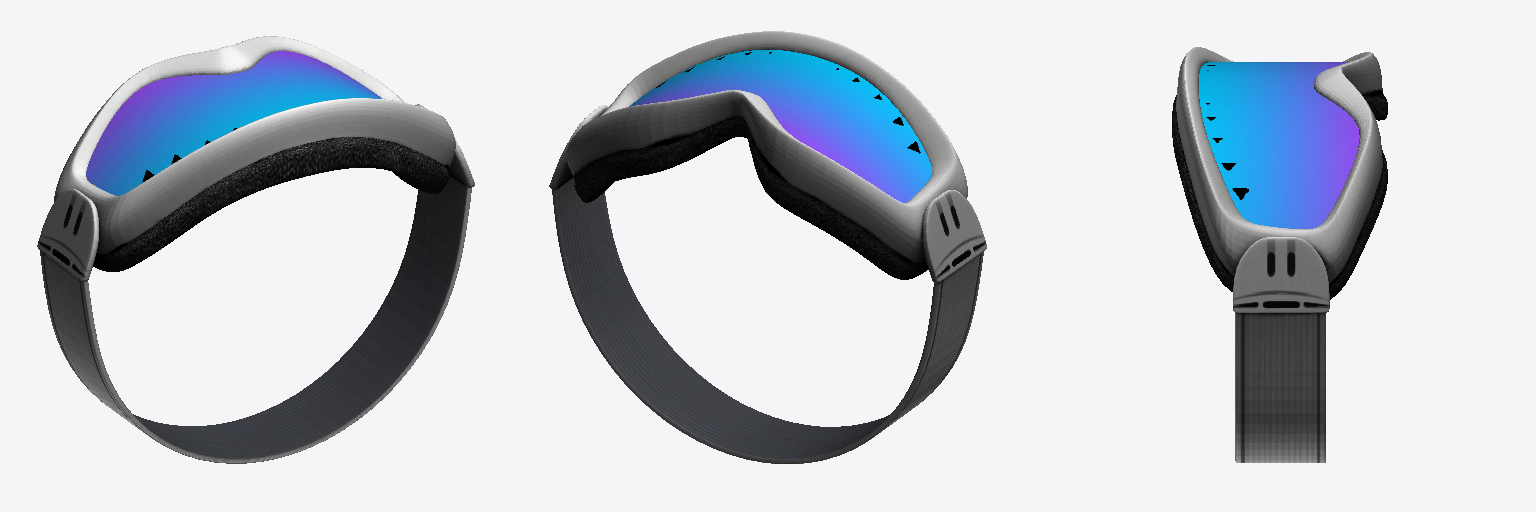
3 renders of one model, left to right at view 1: azimuth 30°, elevation 25°; view 2: azimuth 150°, elevation 25°; view 3: azimuth 270°, elevation 25°, orthographic.
Visible parts, largest first — view 1: Goggles, Plastic; view 2: Goggles, Plastic; view 3: Goggles, Plastic.
Part boxes in pixels (x1,y1,x2,y2): Goggles: (37, 36, 474, 463); Plastic: (86, 51, 381, 195); Goggles: (549, 31, 986, 463); Plastic: (629, 50, 931, 202); Goggles: (1172, 47, 1387, 462); Plastic: (1199, 62, 1359, 228).
Bounding box in the file's own units: 189 × 172 × 89.88.
Materials: 2 (1 with a texture image).